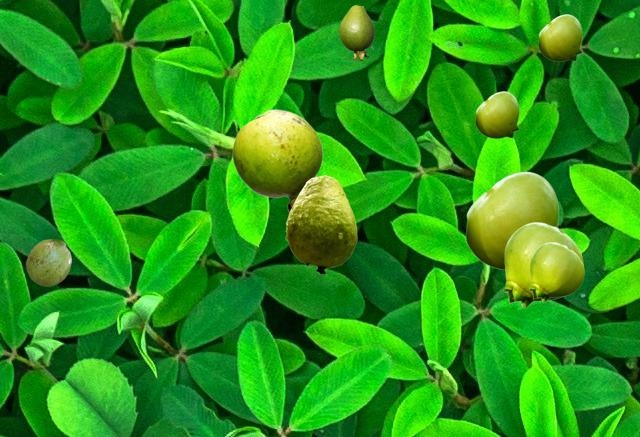guava: (232, 109, 322, 212), (465, 171, 558, 269), (285, 175, 356, 273), (503, 222, 582, 307), (529, 242, 583, 301), (26, 239, 70, 285), (538, 14, 581, 60), (475, 91, 518, 137), (339, 5, 373, 59)
